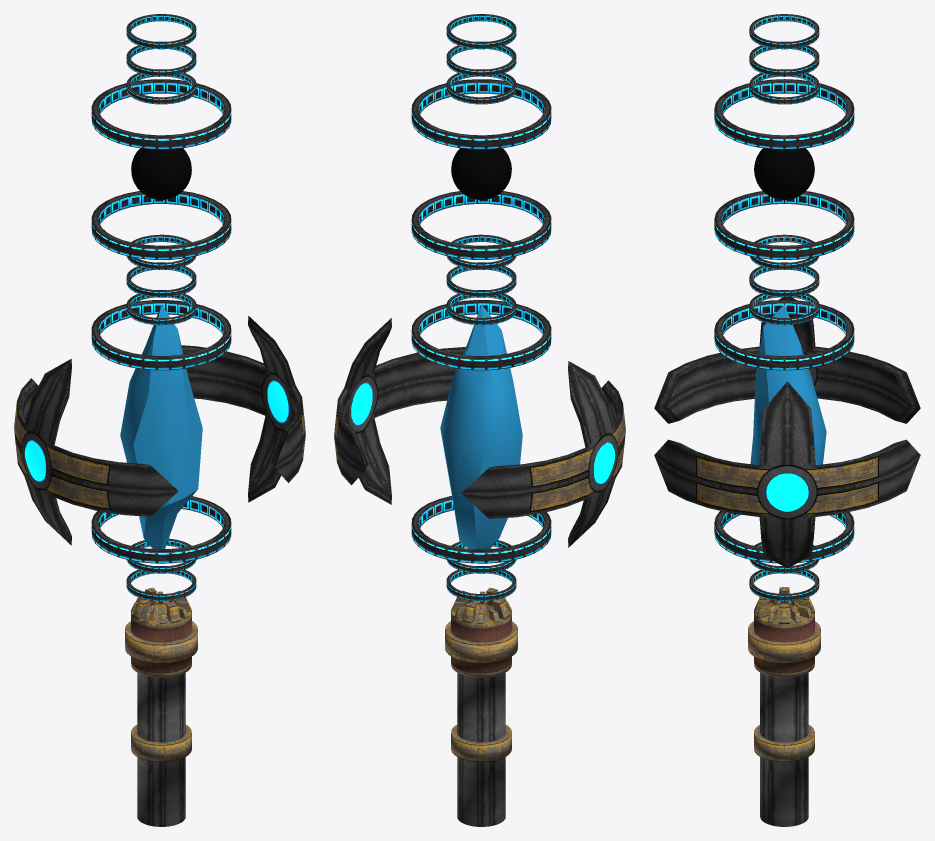
Rendered from Collector.fbx.
3 views of the same model, side by side, from view 1: azimuth 30°, elevation 25°; view 2: azimuth 150°, elevation 25°; view 3: azimuth 270°, elevation 25° (orthographic).
Visible parts, largest first — view 1: CollectorRings, CollectorHands, Collector, CollectorCrystal, CollectorVoid; view 2: CollectorRings, CollectorHands, Collector, CollectorCrystal, CollectorVoid; view 3: CollectorHands, CollectorRings, Collector, CollectorCrystal, CollectorVoid.
Part boxes in pixels (left/top/right/bottom): CollectorRings: left=91, top=14, right=231, bottom=601; CollectorHands: left=14, top=316, right=305, bottom=545; Collector: left=125, top=587, right=197, bottom=826; CollectorCrystal: left=120, top=304, right=202, bottom=549; CollectorVoid: left=131, top=148, right=191, bottom=199; CollectorRings: left=411, top=14, right=551, bottom=601; CollectorHands: left=334, top=318, right=625, bottom=547; Collector: left=445, top=587, right=517, bottom=826; CollectorCrystal: left=440, top=304, right=522, bottom=549; CollectorVoid: left=451, top=148, right=511, bottom=199; CollectorHands: left=654, top=297, right=920, bottom=568; CollectorRings: left=714, top=14, right=854, bottom=601; Collector: left=748, top=587, right=820, bottom=826; CollectorCrystal: left=750, top=304, right=826, bottom=465; CollectorVoid: left=754, top=148, right=814, bottom=199.
Bounding box in the file's own units: 960 × 2855 × 876.
